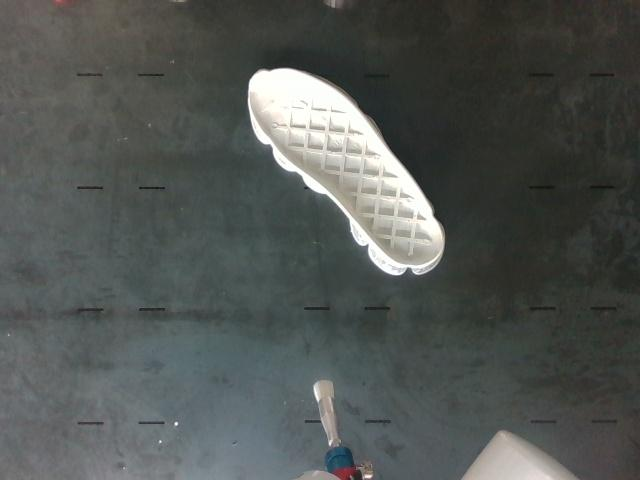shoes: (250, 69, 443, 265)
